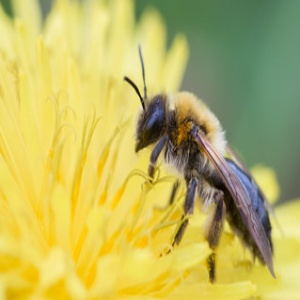bee: (121, 42, 279, 287)
